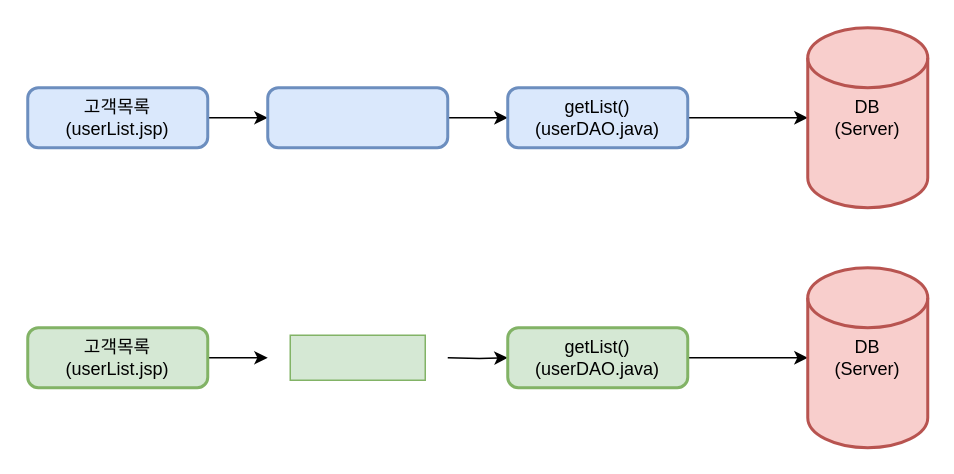
The diagram is 954 pixels wide and 474 high, and some of its shapes have lost their labels. Here are the shapes that lost their labels. From the top down, the box of each, then its label:
(266, 86, 448, 148): 고객목록 (userCheck.jsp)
(289, 334, 425, 380): AJAX (jsp, servlet)
